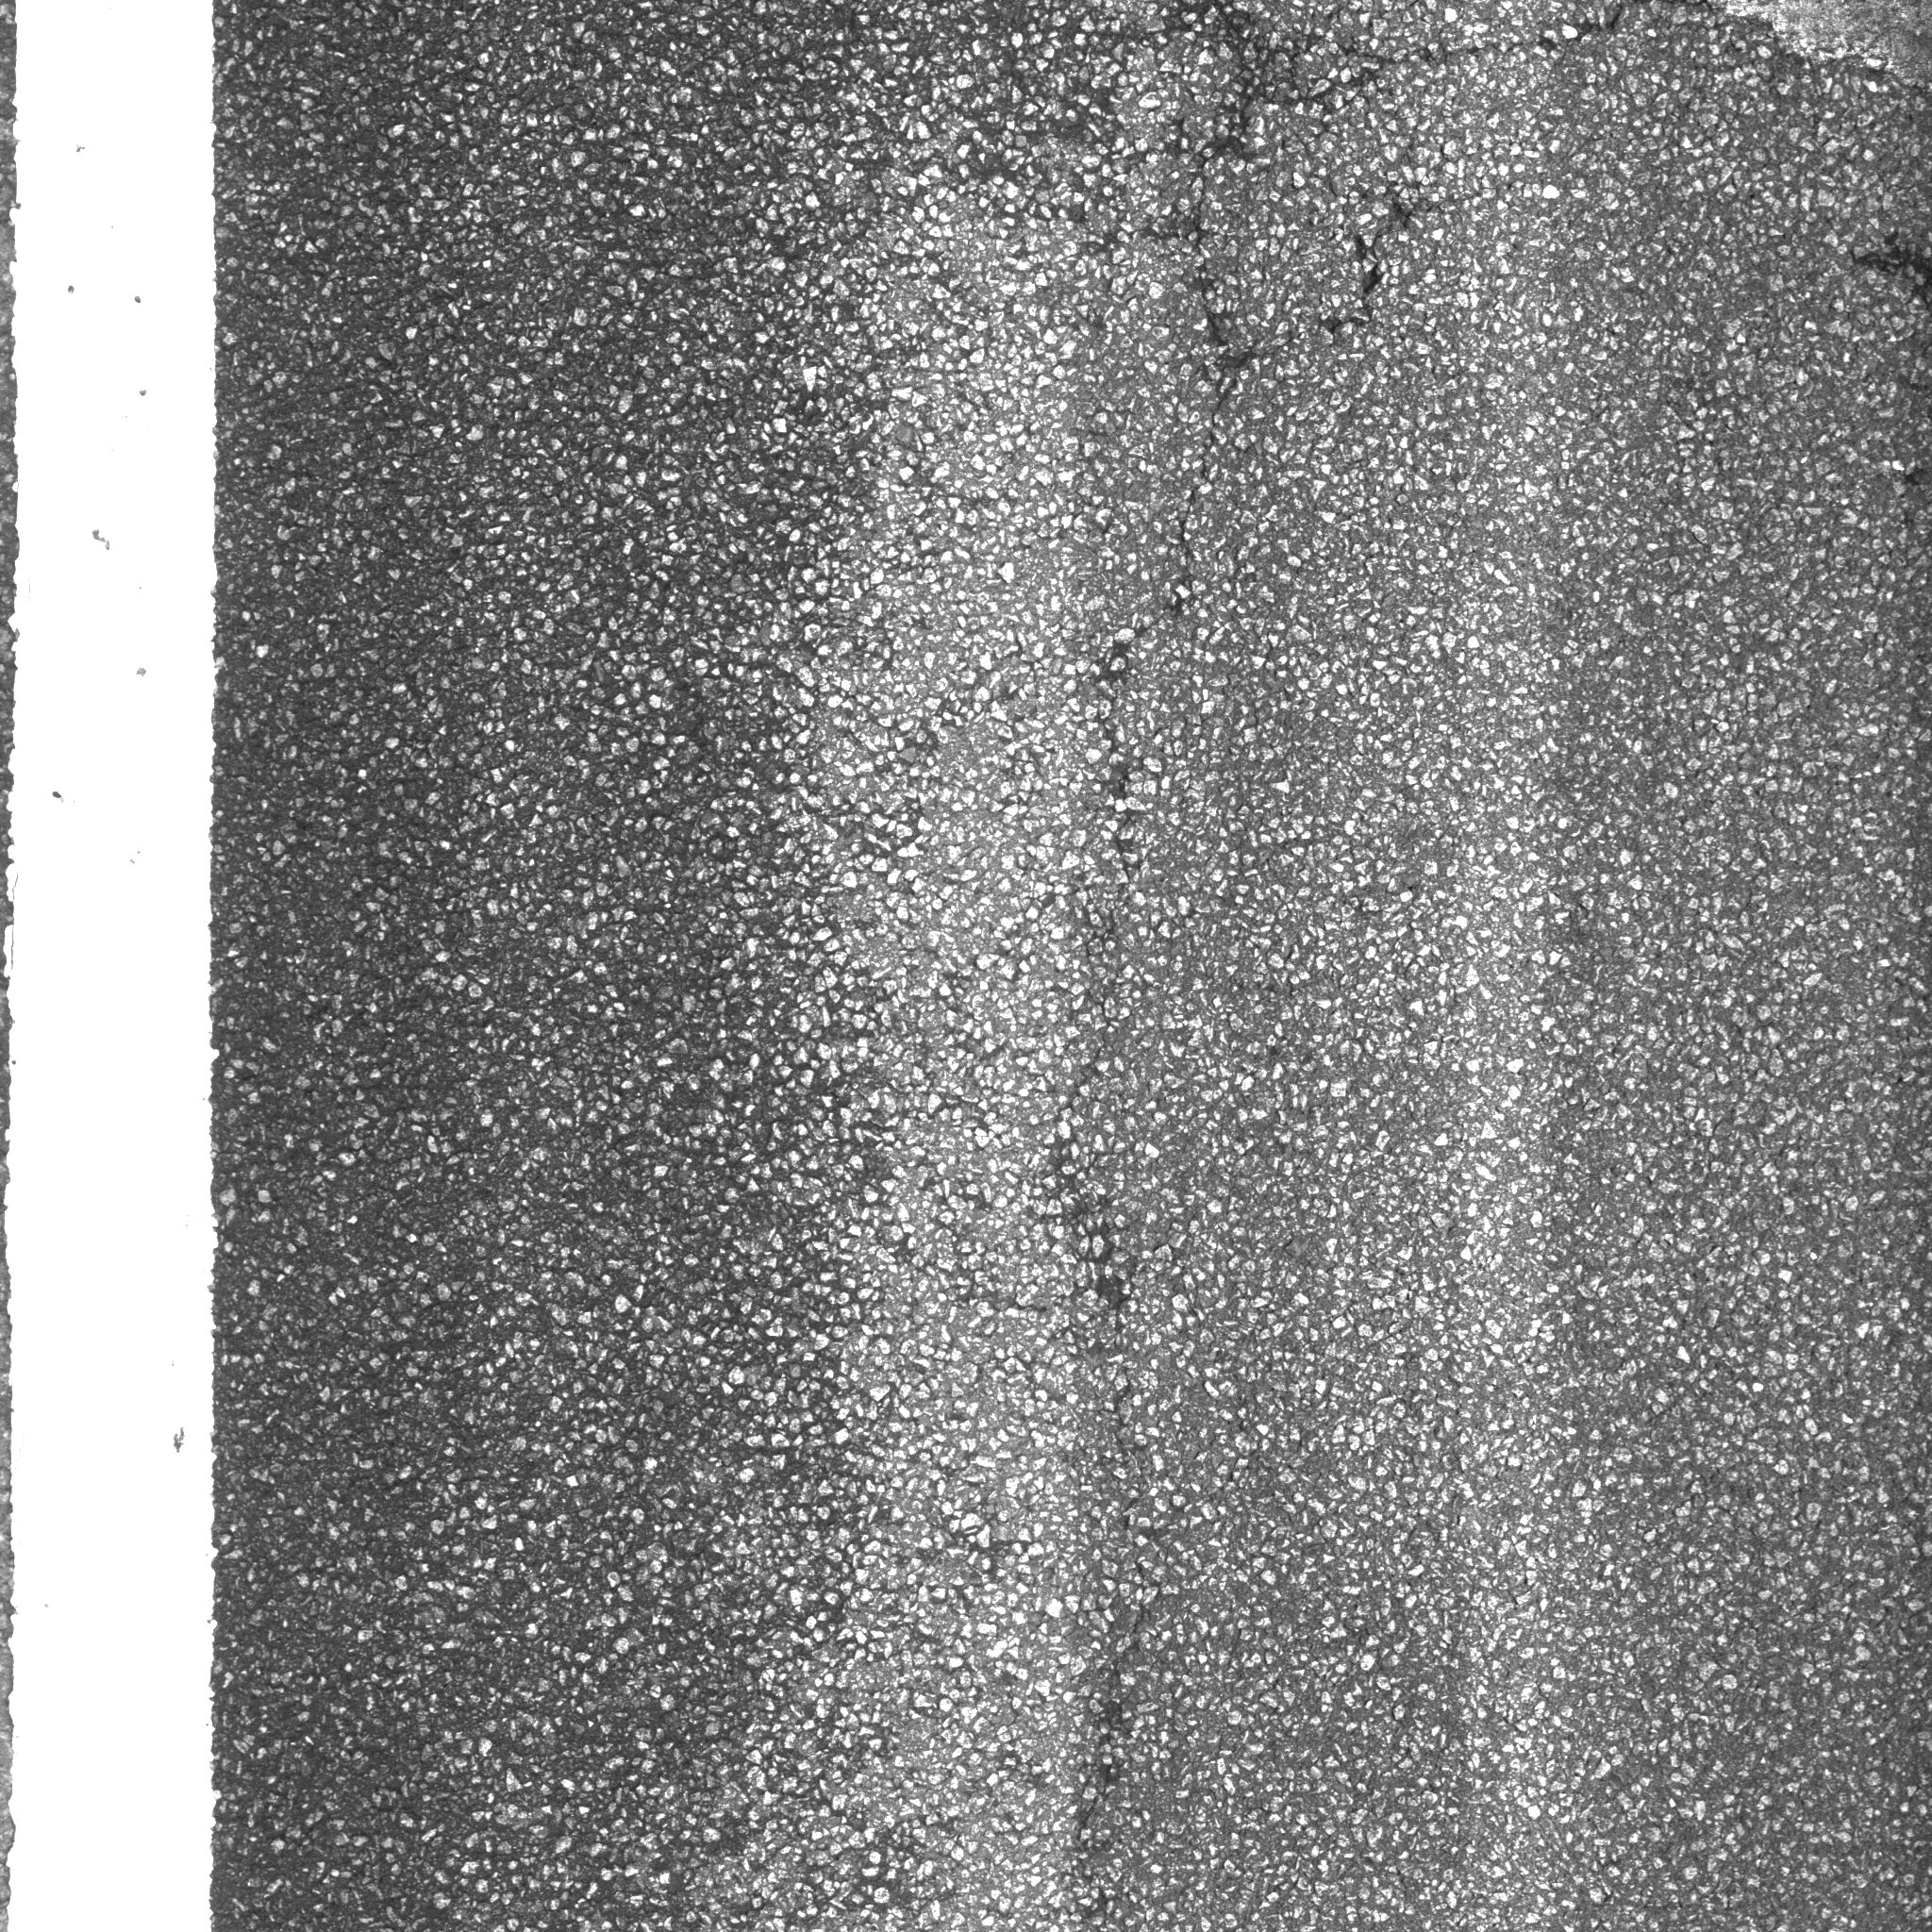longitudinal: (1040, 191, 1246, 1442)
